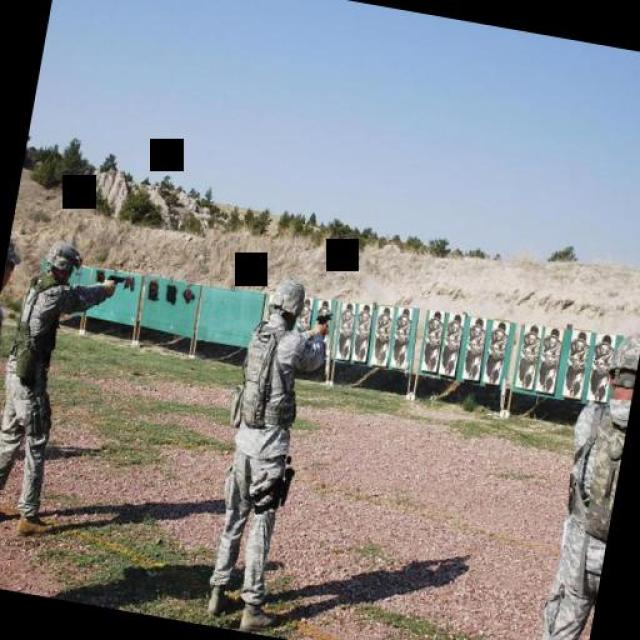gun: (313, 302, 337, 328), (102, 268, 128, 290)
